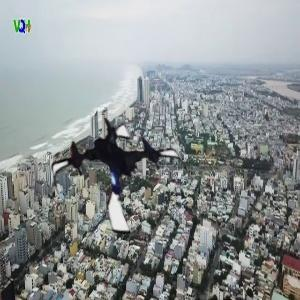drone: (52, 108, 191, 247)
